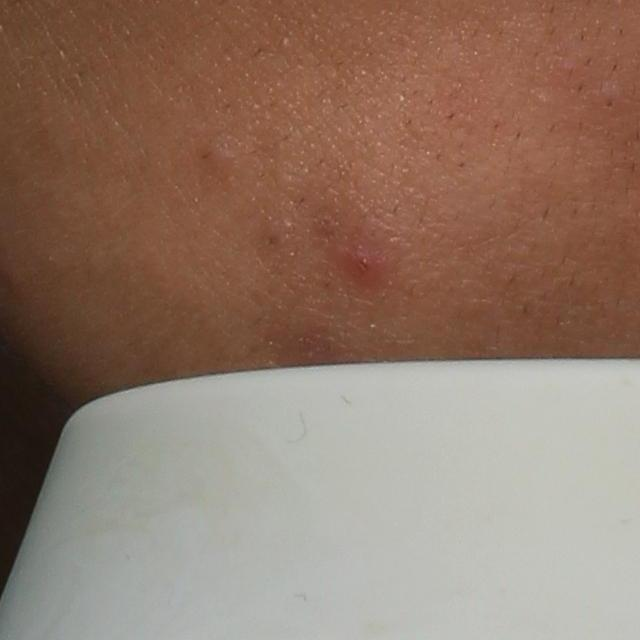comedo: (203, 142, 237, 171)
papule: (338, 238, 384, 283)
